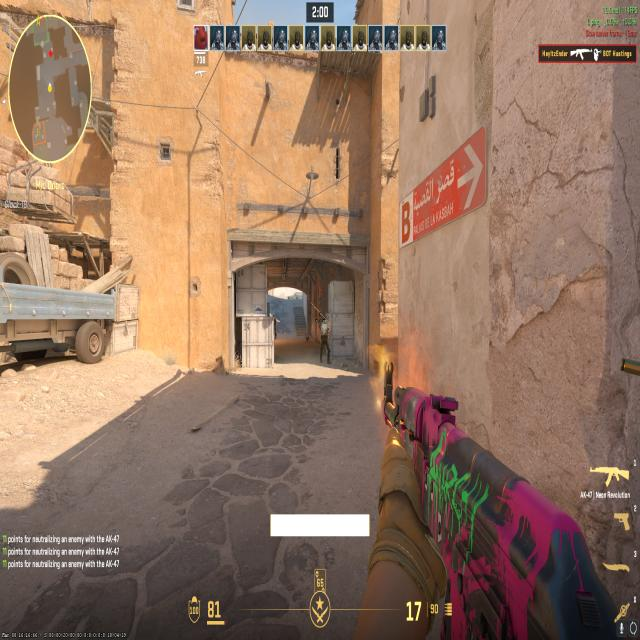ct: (272, 312, 278, 339)
t: (312, 310, 336, 369)
